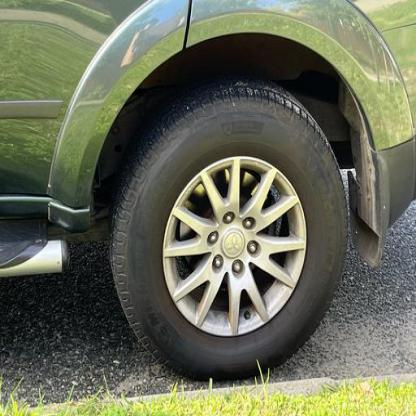Tire: (107, 76, 348, 383)
